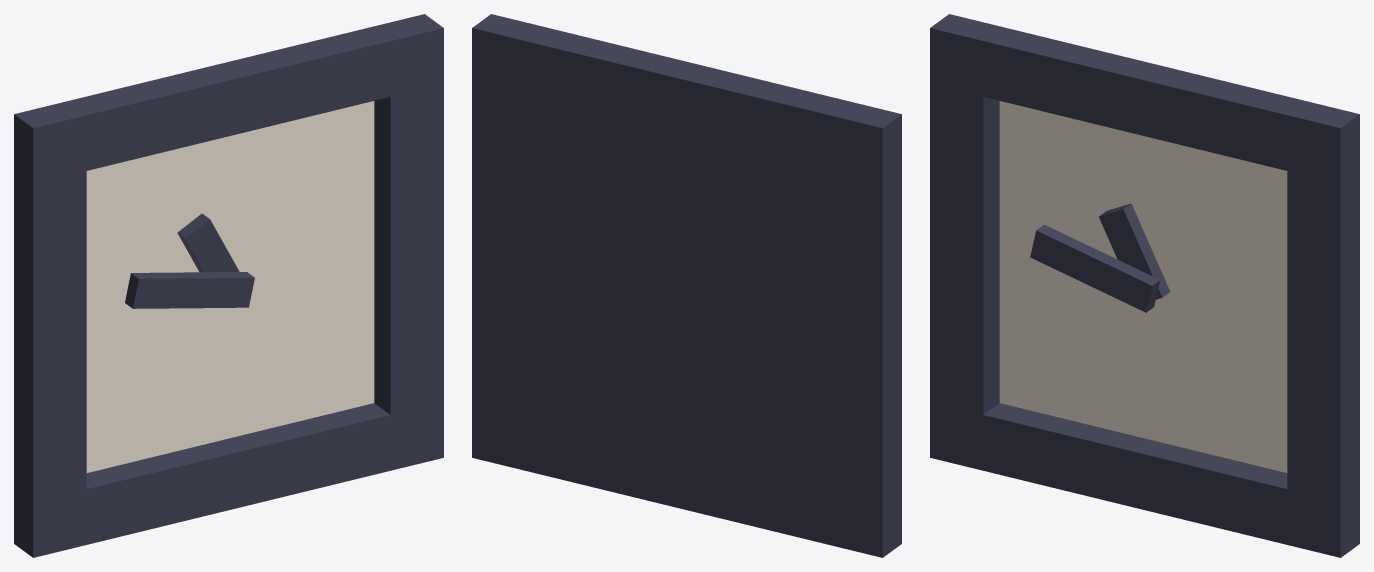
The model's file is Clock.fbx.
3 renders of one model, left to right at view 1: azimuth 30°, elevation 25°; view 2: azimuth 150°, elevation 25°; view 3: azimuth 330°, elevation 25°, orthographic.
Visible parts, largest first — view 1: Clock_01; view 2: Clock_01; view 3: Clock_01.
Part boxes in pixels (x1,y1,x2,y2): Clock_01: (14,14,443,557); Clock_01: (472,14,901,557); Clock_01: (930,14,1359,557).
Bounding box in the file's own units: 731 × 731 × 59.23.
